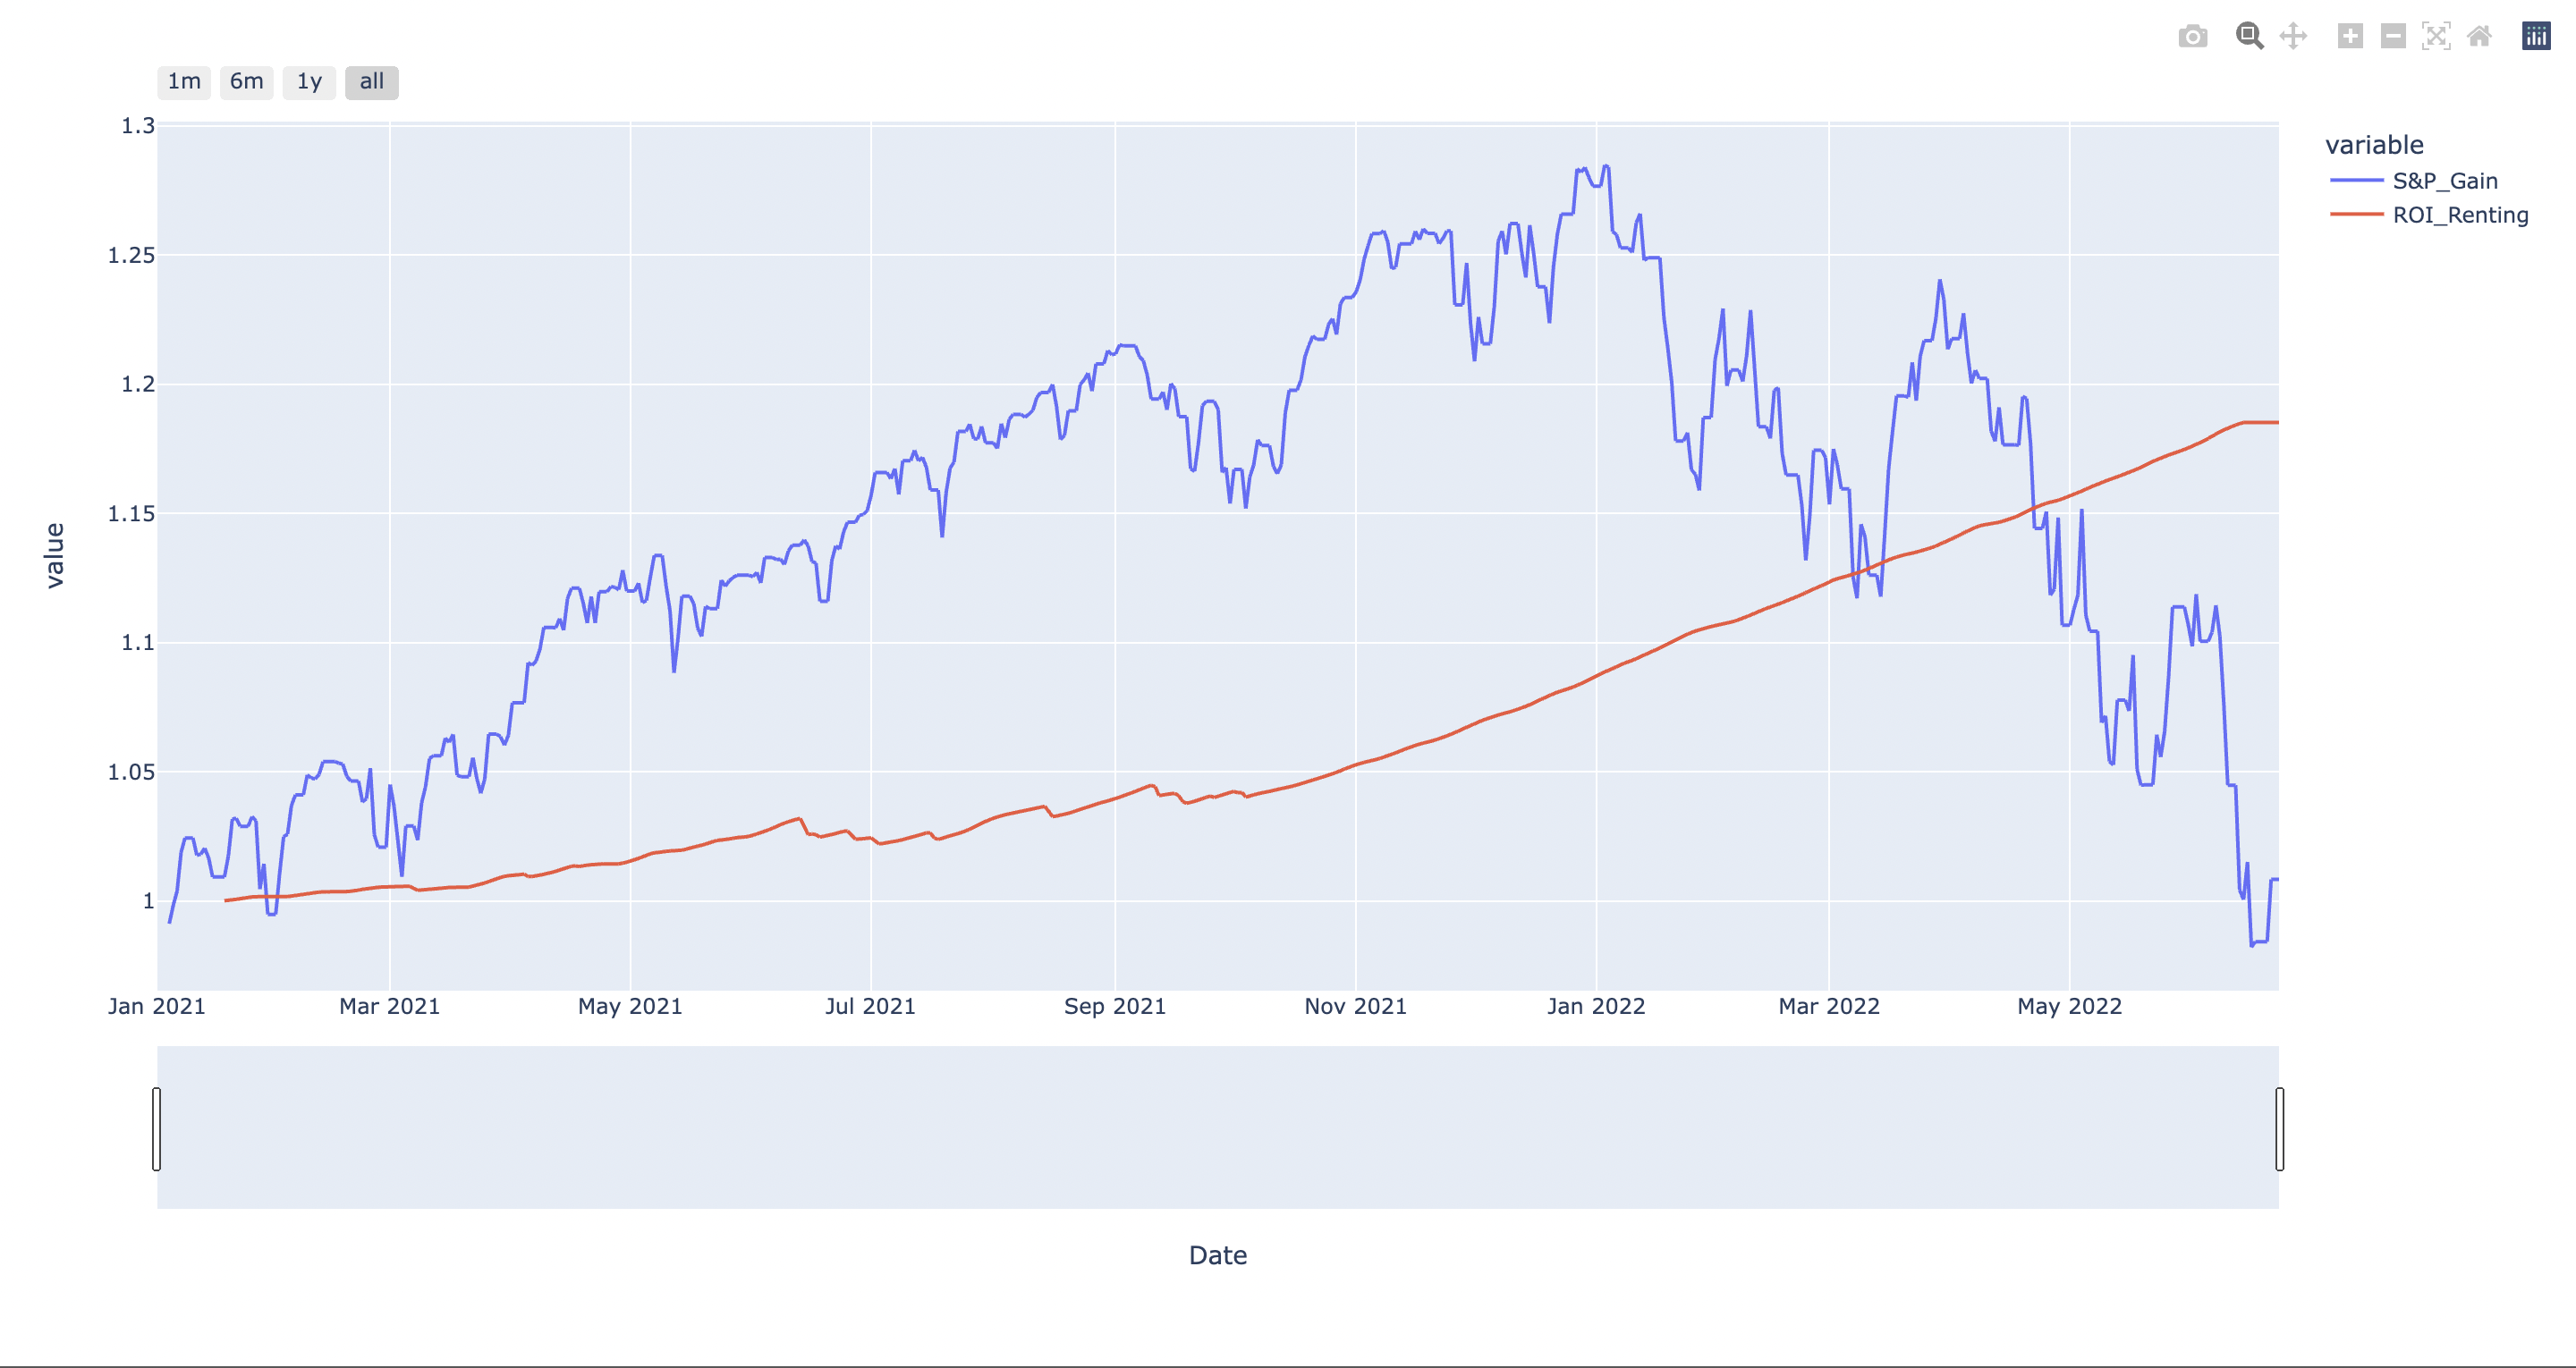

The dashboard page shown, as its layout file describes it:
{"tool":"tableau","page":{"name":"Dashboard 1","canvas":[1000,800],"ordinal":0},"visuals":[{"type":"worksheet","title":"Blatt 1","mark":"Automatic","rows":["Item"],"box":[8,8,984,784]}]}

Visuals, with their boxes on the page's 1000x800 design canvas (x1, y1, x2, y2). These are canvas units, not pixel positions in the 2576x1368 screenshot, which may show the page scaled, cropped or inside an application window:
"Blatt 1" worksheet: region(8, 8, 992, 792)
